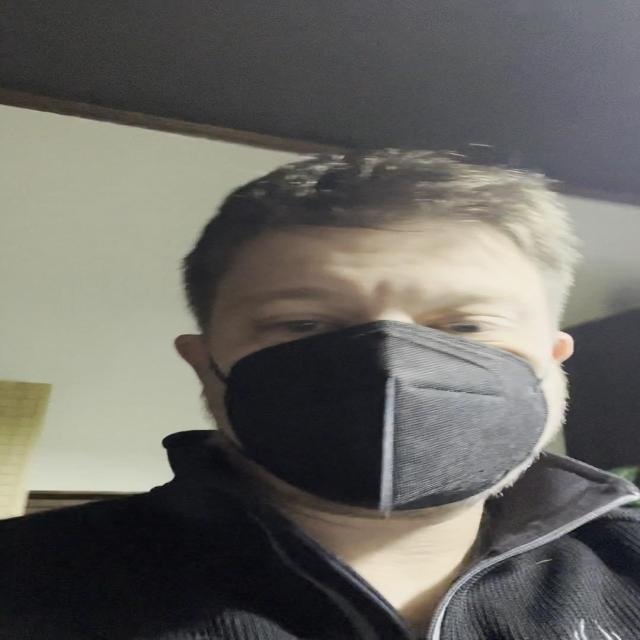no-helmet: (205, 218, 572, 518)
